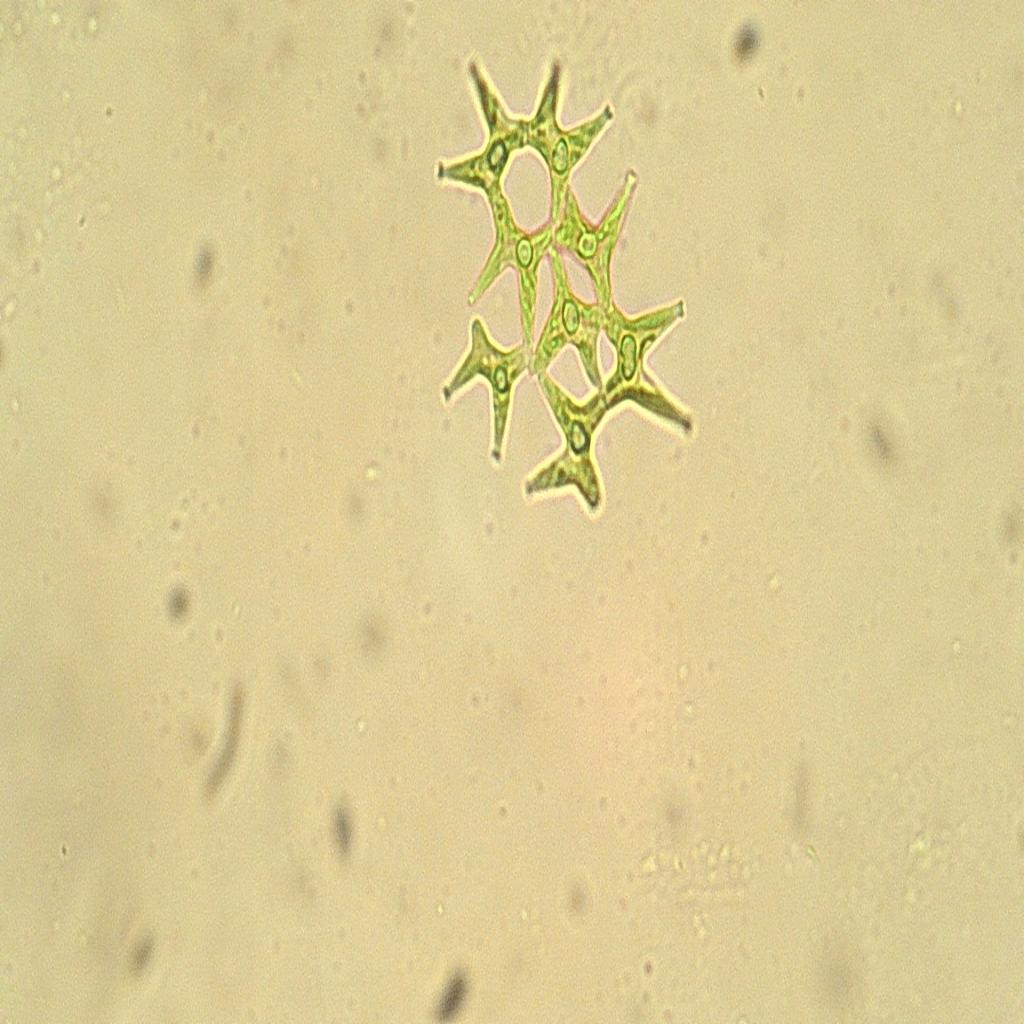Pediastrum_1TH: (429, 42, 703, 577)
